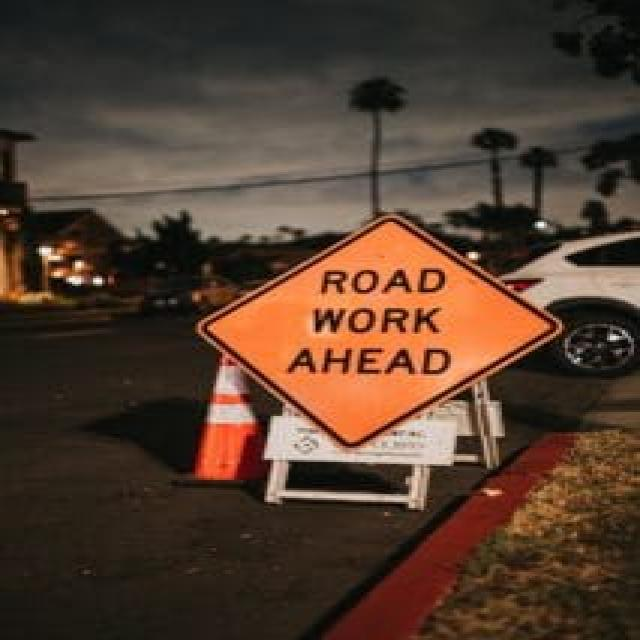road-sign: (173, 204, 568, 463)
